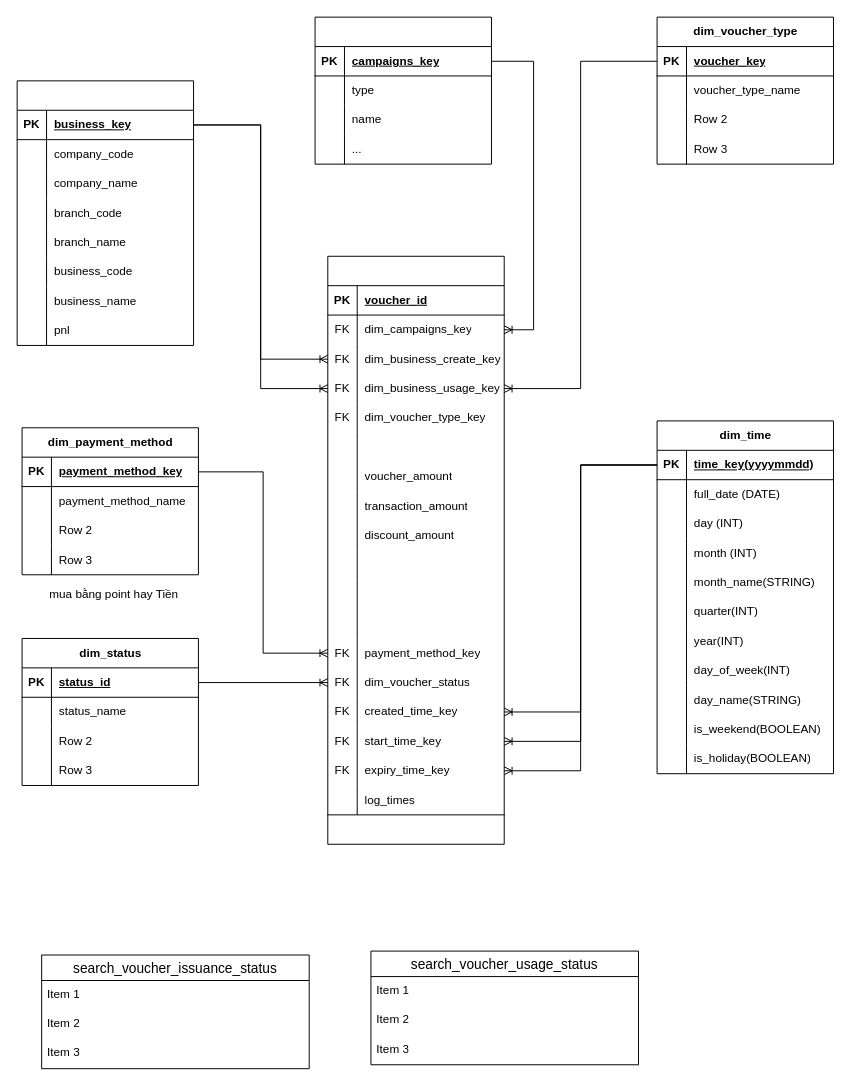
This 851x1089 diagram has some shape labels left out. The shapes that lost their labels are listed below. From the top down, each one's box as (x1, y1, x2, y2) in pixels, then its label:
(314, 16, 491, 164): dim_campaigns
(16, 80, 194, 345): dim_business_unit
(327, 255, 504, 844): fct_voucher_transaction
